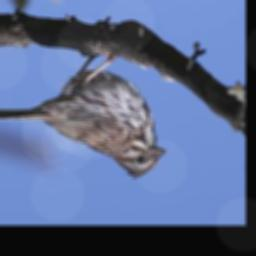Sparrow: (0, 42, 168, 182)
